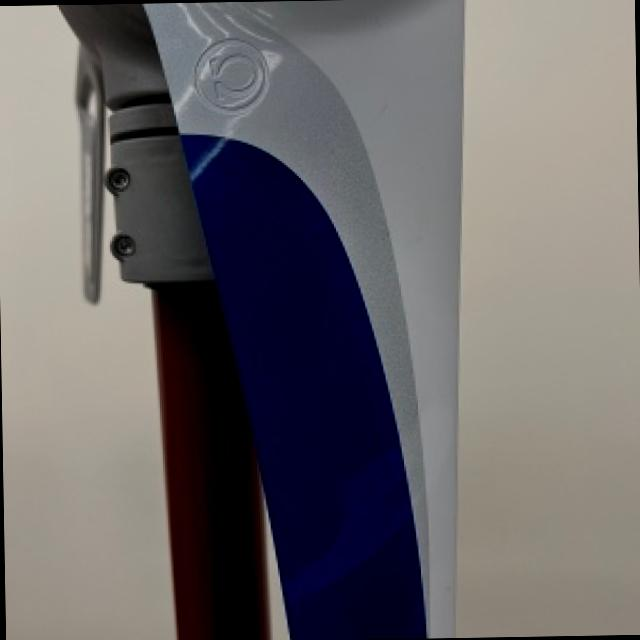healthy: (176, 513, 267, 636)
